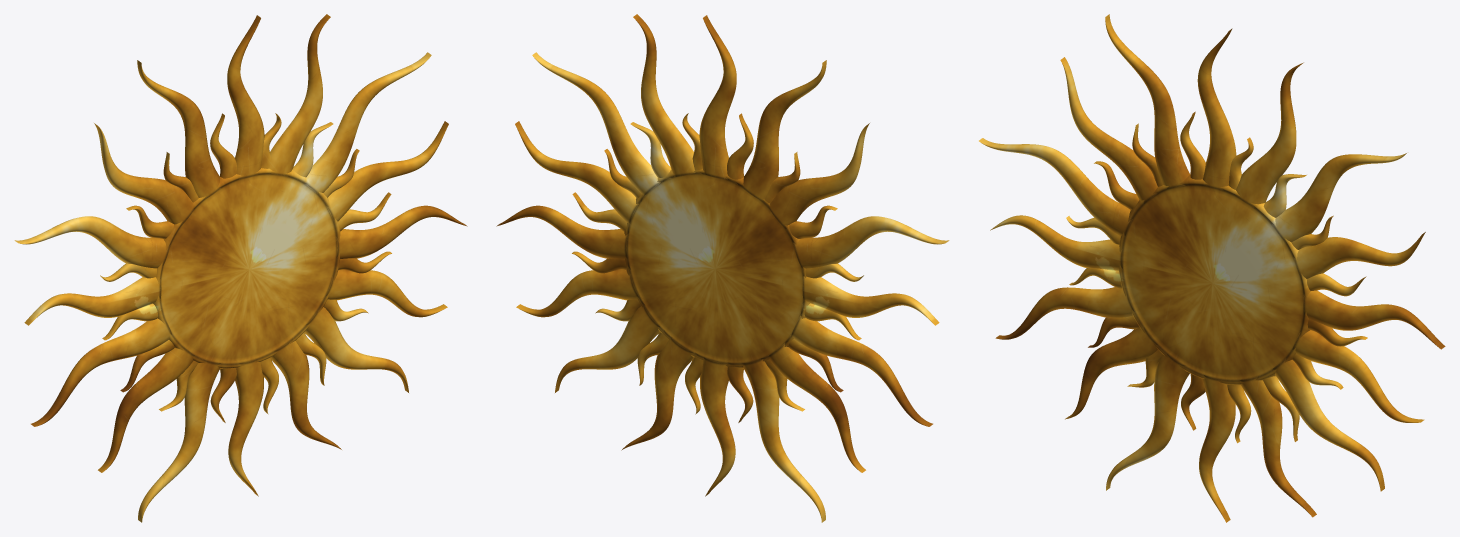
File: sol.obj
The picture shows the model from 3 angles, left to right: view 1: azimuth 30°, elevation 25°; view 2: azimuth 150°, elevation 25°; view 3: azimuth 330°, elevation 25°; orthographic projection. The views are drawn at different scales.
Visible parts, largest first — view 1: disco, rayo_05, rayo_15, rayo_19, rayo_23, rayo_11, rayo_09, rayo_07, rayo_13, rayo_17, rayo_21, rayo_03 (+16 smaller); view 2: disco, rayo_05, rayo_15, rayo_19, rayo_23, rayo_11, rayo_09, rayo_07, rayo_13, rayo_17, rayo_21, rayo_03 (+18 smaller); view 3: disco, rayo_11, rayo_05, rayo_15, rayo_07, rayo_23, rayo_09, rayo_01, rayo_29, rayo_13, rayo_19, rayo_31 (+16 smaller).
Part boxes in pixels (left/top/right/bottom): disco: left=153, top=168, right=340, bottom=369; rayo_05: left=305, top=52, right=431, bottom=194; rayo_15: left=14, top=216, right=170, bottom=268; rayo_19: left=31, top=318, right=171, bottom=426; rayo_23: left=138, top=360, right=220, bottom=522; rayo_11: left=137, top=60, right=220, bottom=199; rayo_09: left=227, top=15, right=264, bottom=179; rayo_07: left=269, top=14, right=330, bottom=176; rayo_13: left=94, top=123, right=193, bottom=226; rayo_17: left=24, top=277, right=161, bottom=325; rayo_21: left=98, top=345, right=194, bottom=472; rayo_03: left=326, top=121, right=448, bottom=222; disco: left=624, top=168, right=809, bottom=368; rayo_05: left=532, top=52, right=660, bottom=195; rayo_15: left=793, top=216, right=949, bottom=268; rayo_19: left=791, top=315, right=932, bottom=426; rayo_23: left=741, top=359, right=825, bottom=522; rayo_11: left=741, top=60, right=826, bottom=200; rayo_09: left=699, top=15, right=736, bottom=179; rayo_07: left=633, top=14, right=695, bottom=176; rayo_13: left=768, top=123, right=869, bottom=227; rayo_17: left=802, top=276, right=939, bottom=325; rayo_21: left=768, top=343, right=865, bottom=472; rayo_03: left=515, top=121, right=638, bottom=224; disco: left=1119, top=175, right=1310, bottom=385; rayo_11: left=1105, top=14, right=1190, bottom=188; rayo_05: left=1272, top=153, right=1406, bottom=242; rayo_15: left=979, top=138, right=1132, bottom=236; rayo_07: left=1236, top=62, right=1303, bottom=207; rayo_23: left=1106, top=354, right=1189, bottom=490; rayo_09: left=1197, top=28, right=1236, bottom=190; rayo_01: left=1303, top=290, right=1445, bottom=349; rayo_29: left=1272, top=358, right=1384, bottom=491; rayo_13: left=1060, top=57, right=1157, bottom=204; rayo_19: left=995, top=287, right=1134, bottom=339; rayo_31: left=1292, top=330, right=1424, bottom=422.
Bounding box in the file's own units: 1.88 × 1.92 × 0.056.
1 material, 1 textured.
